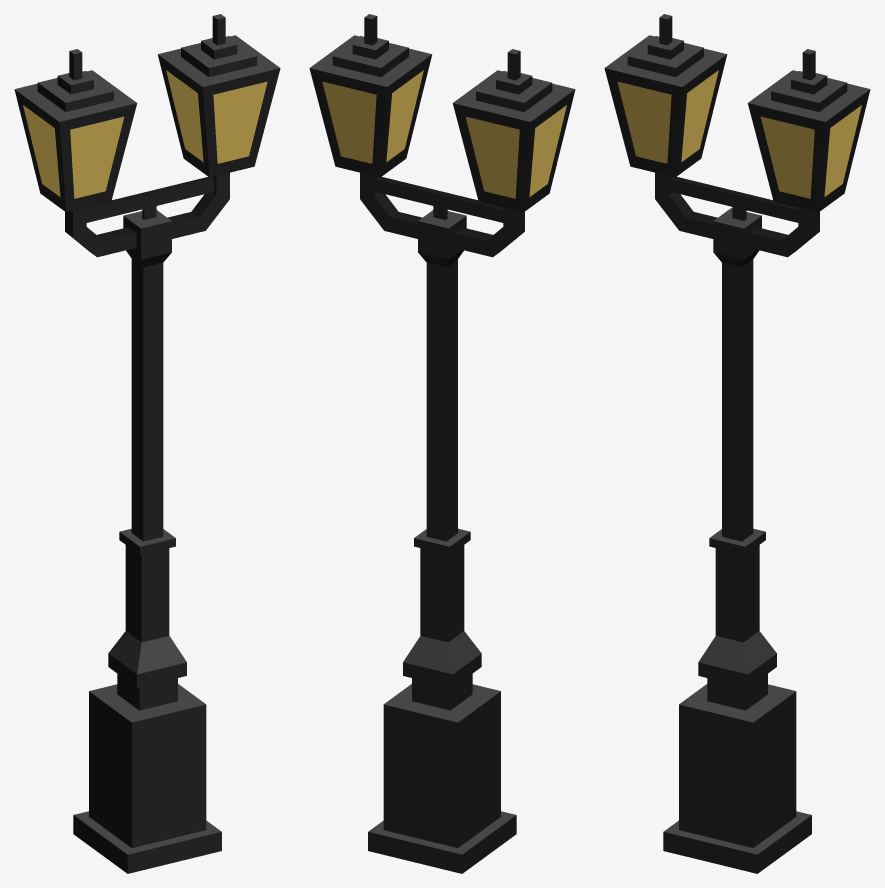
File: SM_ParkLight_Double_01.fbx
3 views of the same model, side by side, from view 1: azimuth 30°, elevation 25°; view 2: azimuth 150°, elevation 25°; view 3: azimuth 330°, elevation 25° (orthographic).
Parts seen in each view (by area): view 1: SM_ParkLight_Double_01; view 2: SM_ParkLight_Double_01; view 3: SM_ParkLight_Double_01.
Part boxes in pixels (<box>): SM_ParkLight_Double_01: <box>14,14,280,873</box>; SM_ParkLight_Double_01: <box>309,14,575,873</box>; SM_ParkLight_Double_01: <box>604,14,870,873</box>.
Bounding box in the file's own units: 1.44 × 5.03 × 0.613.
